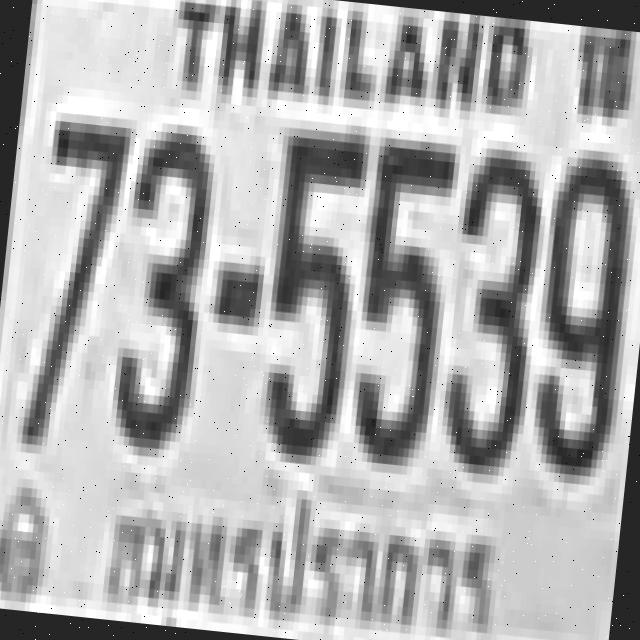3: (433, 137, 543, 468), (106, 120, 215, 442)
5: (250, 118, 366, 458), (344, 128, 454, 458)
7: (17, 107, 126, 446)
9: (526, 142, 636, 474)
SamutPrakan: (92, 464, 512, 640)
